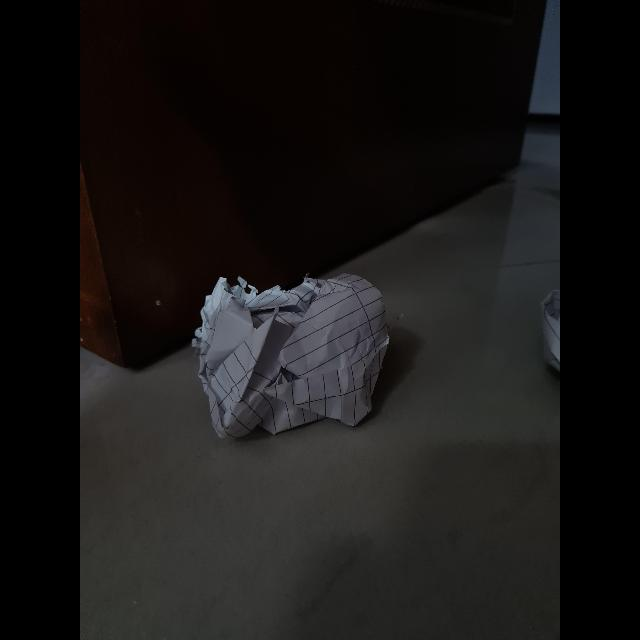trash: (190, 274, 394, 438)
